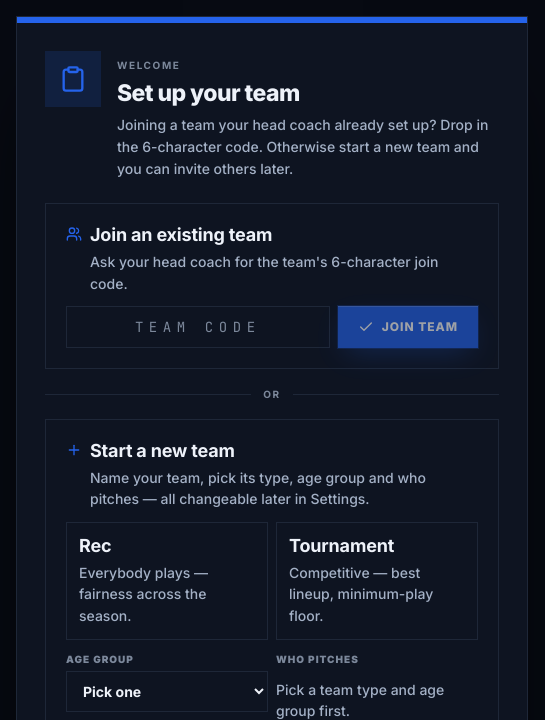
Test: WelcomePage › joins with a normalized 6-char code and surfaces a bad-code error
This screenshot has width=545, height=720.
# Too short → disabled.
Type "abc" into the field named "6-character team join code".
click(198, 327); type("abc")  # box [66,306,330,348]
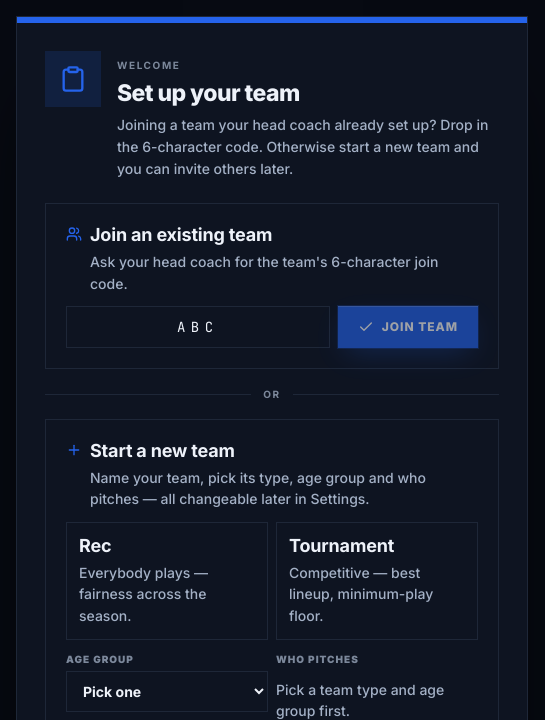
Expected: the button "Join Team" is disabled, [338,306,478,348]
Replace the text in the field named "6-character team join code" with "abc234" at (198, 327), box [66,306,330,348]
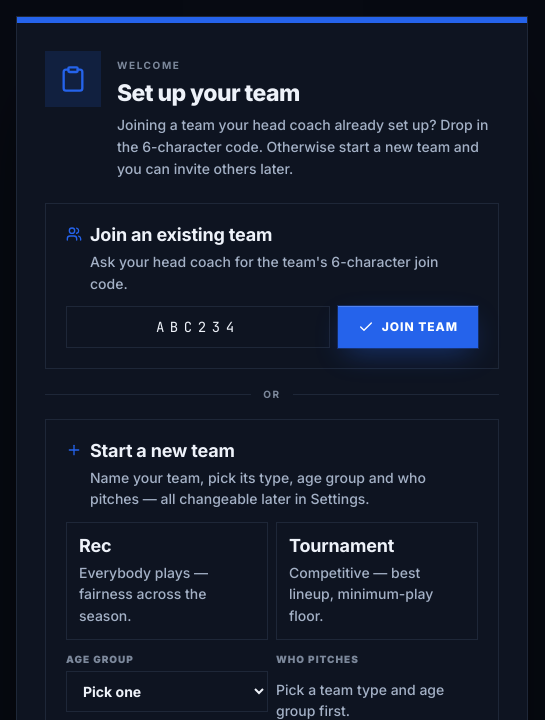
Click the button "Join Team".
click(408, 327)  # box [338,306,478,348]
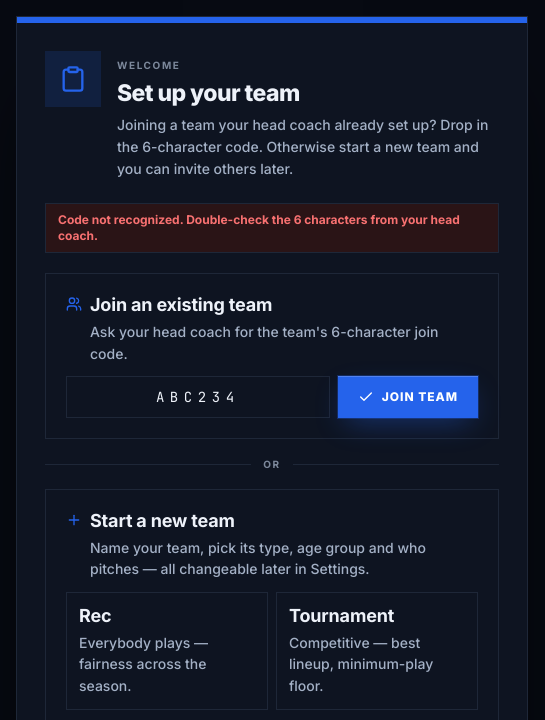
Expected: the message shows "Code not recognized", [58,212,460,243]
